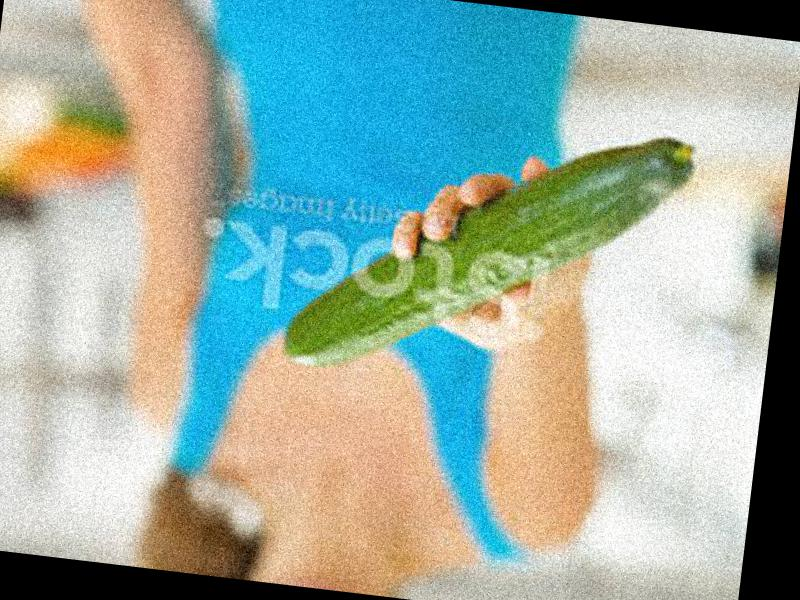Cucumber: (280, 94, 695, 407)
